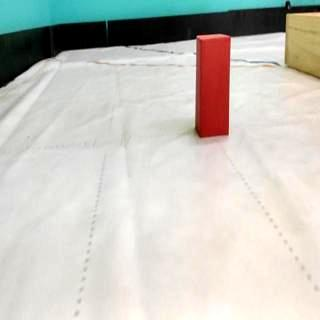redbox: (196, 33, 229, 139)
